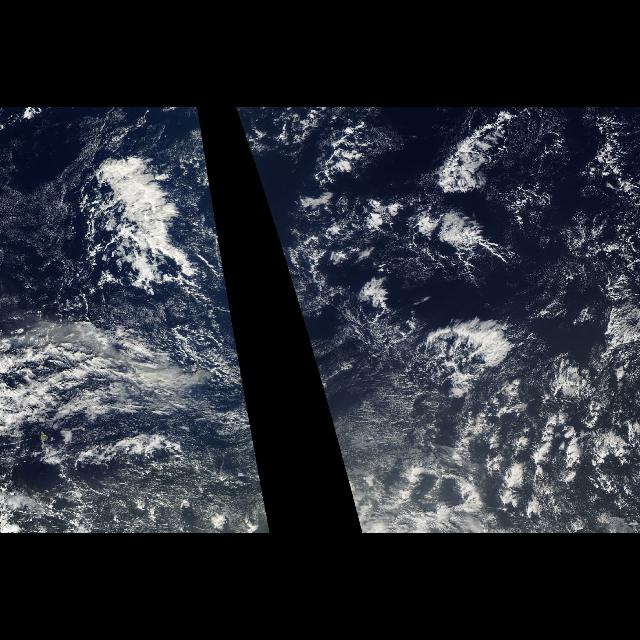Fish: (4, 147, 256, 460), (410, 114, 556, 288)
Sugar: (34, 330, 266, 532), (306, 330, 446, 522)
